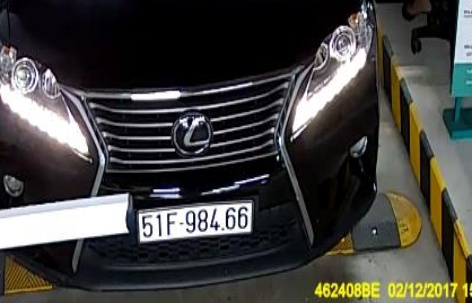plate: (134, 200, 250, 240)
